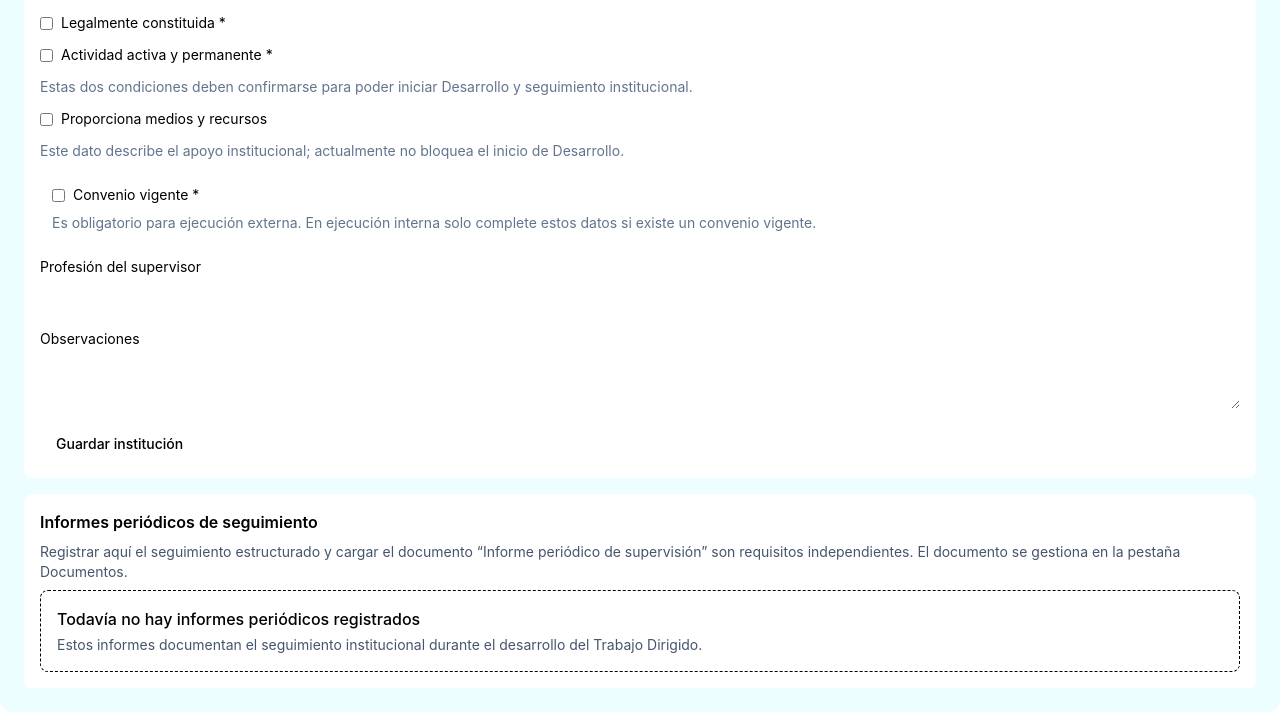
Test case: TrabajoDirigido › muestra campos obligatorios y errores controlados sin depender de la validación nativa
(page scrolled)
Click the button "Guardar institución" at (120, 444), box 40,426 -> 199,462
(page scrolled)
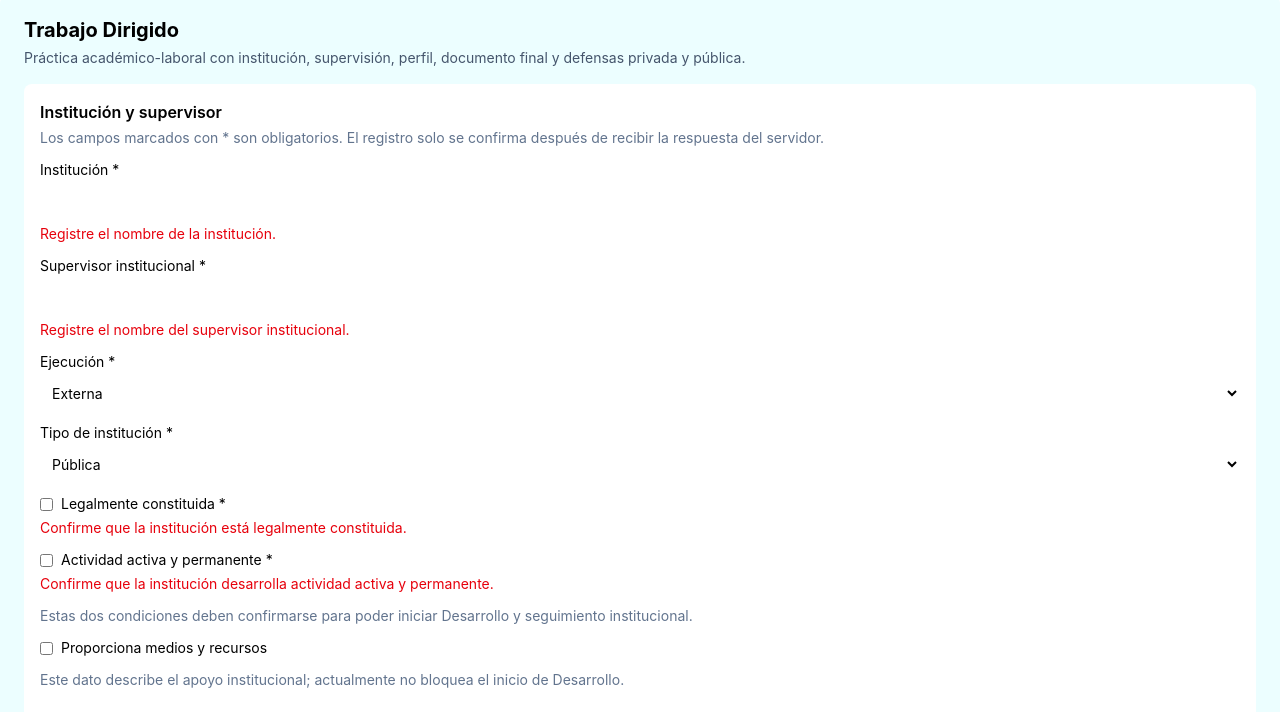
Expected: the text "Registre el nombre de la institución." is shown, 40,225 -> 276,242
Expected: the text "Registre el nombre del supervisor institucional." is shown, 40,321 -> 350,338
Expected: the text "Confirme que la institución está legalmente constituida." is shown, 40,519 -> 407,536
